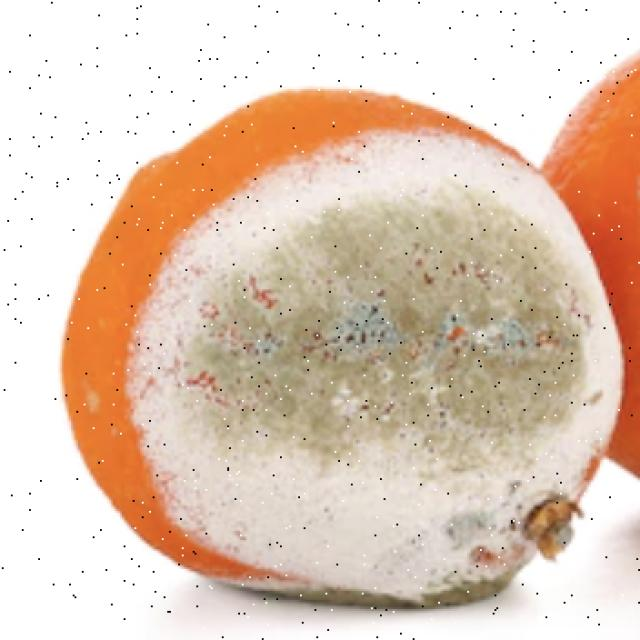Organik: (42, 67, 635, 640)
